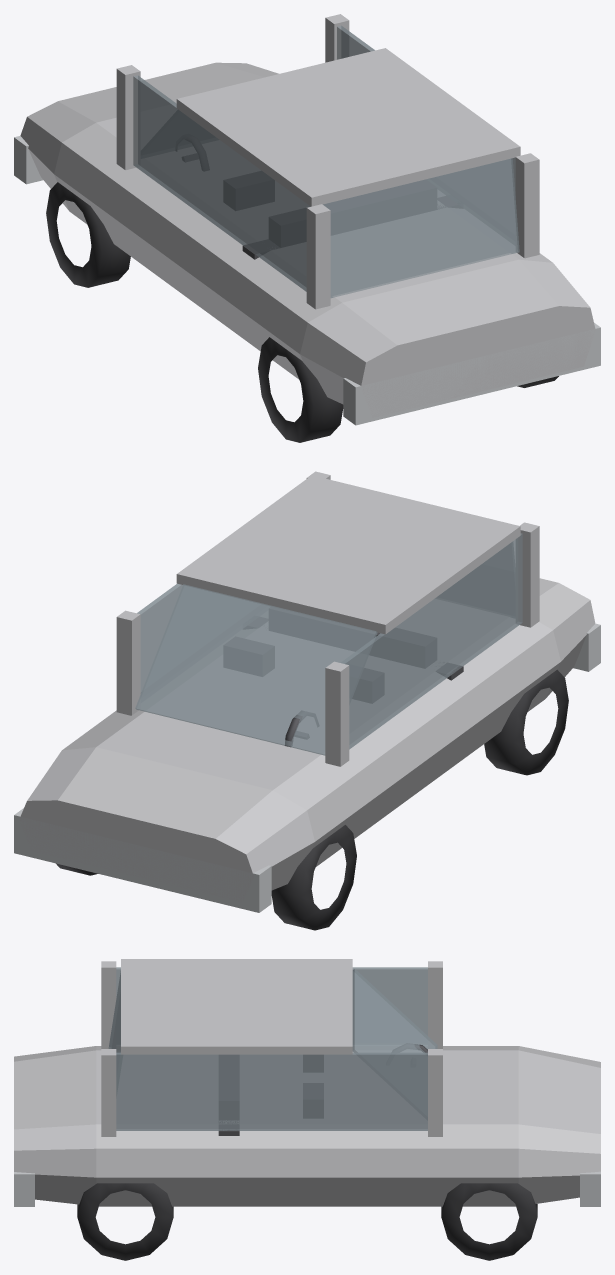
Rendered from hatchback.glb.
3 renders of one model, top to bottom at view 1: azimuth 30°, elevation 25°; view 2: azimuth 150°, elevation 25°; view 3: azimuth 270°, elevation 25°, orthographic. The views are drawn at different scales.
Visible parts, largest first — view 1: body, glass, body_trim, wheels, seats; view 2: body, glass, body_trim, wheels, seats; view 3: body, glass, wheels, seats, body_trim.
Boxes of the visible parts, x1=… form: body: x1=20, y1=14, x2=595, y2=417; glass: x1=133, y1=25, x2=519, y2=298; body_trim: x1=14, y1=136, x2=600, y2=425; wheels: x1=46, y1=182, x2=558, y2=442; seats: x1=224, y1=171, x2=461, y2=259; body: x1=20, y1=471, x2=595, y2=901; glass: x1=135, y1=533, x2=522, y2=755; body_trim: x1=14, y1=623, x2=600, y2=912; wheels: x1=56, y1=669, x2=568, y2=930; seats: x1=224, y1=607, x2=463, y2=703; body: x1=14, y1=959, x2=600, y2=1206; glass: x1=108, y1=967, x2=437, y2=1130; wheels: x1=77, y1=1183, x2=537, y2=1260; seats: x1=218, y1=1055, x2=323, y2=1135; body_trim: x1=14, y1=1171, x2=600, y2=1206.
Size of the model in its own units: 1.72 by 1.5 by 3.9.
